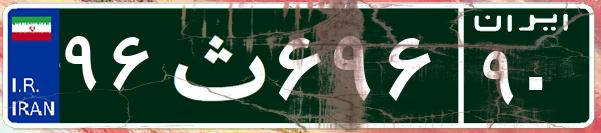0: (525, 38, 570, 115)
6: (385, 28, 445, 110), (273, 28, 330, 110), (110, 28, 158, 105)
9: (330, 28, 385, 110), (57, 26, 110, 107), (475, 38, 525, 113)
ث: (158, 15, 273, 115)
